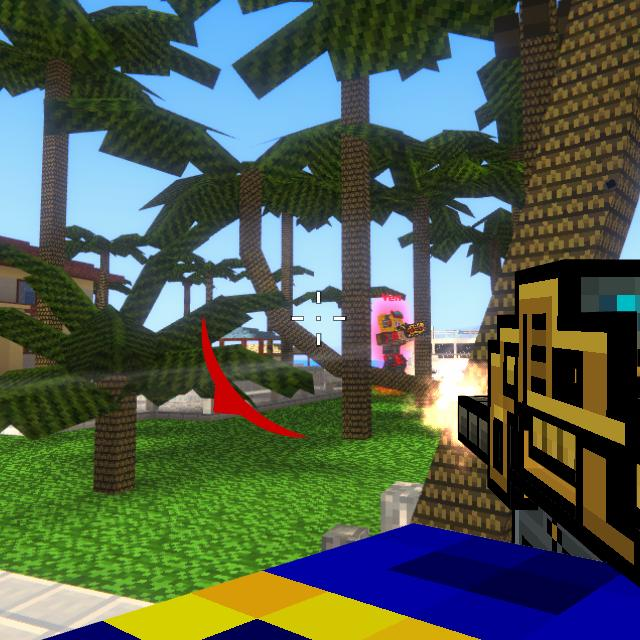Enemy: (375, 312, 408, 369)
